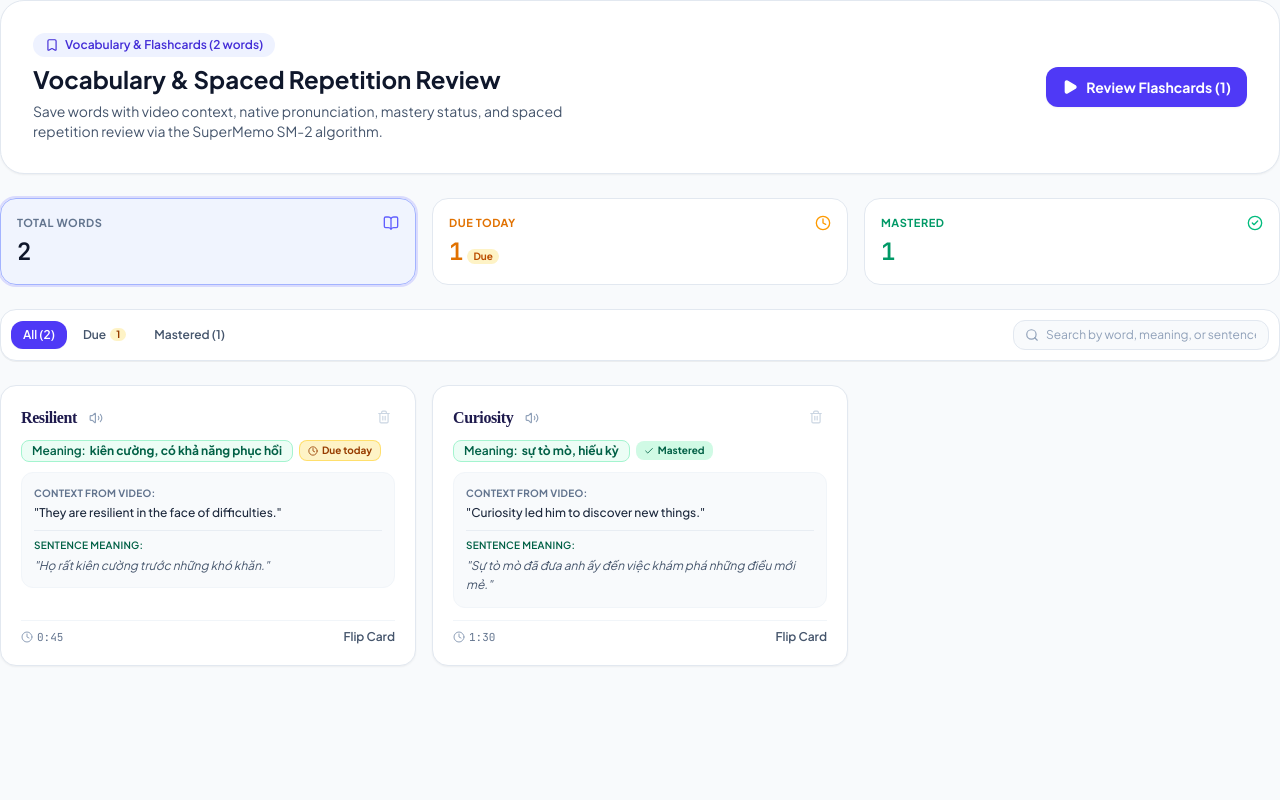
Scenario: VocabularyView & Flashcard Anki SRS Integration Tests › searches and filters words by query string
Type "kiên cường" into the field with placeholder "Search by word, meaning, or sentence..." at (1141, 334), box [1013,320,1269,350]
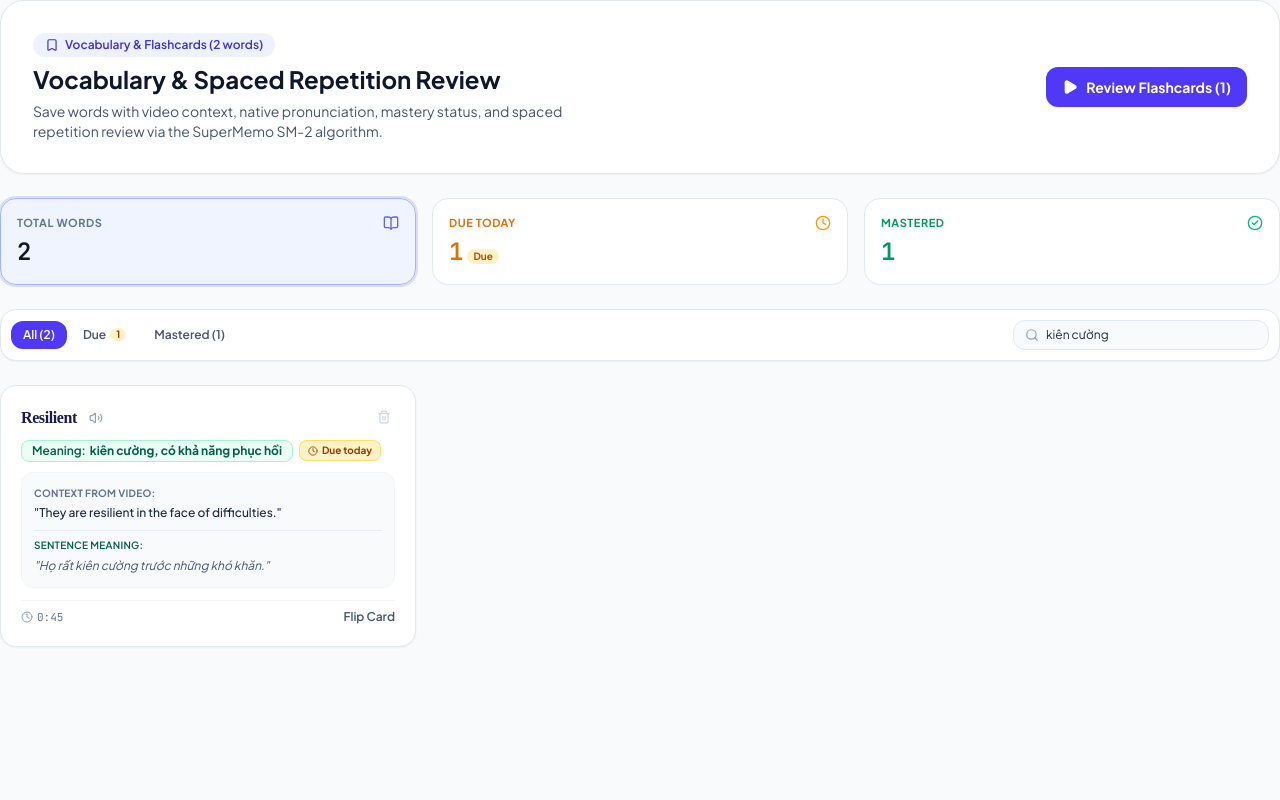
Expected: the heading "resilient" is shown, [21,406,77,430]
Now the heading "curiosity" is gone
